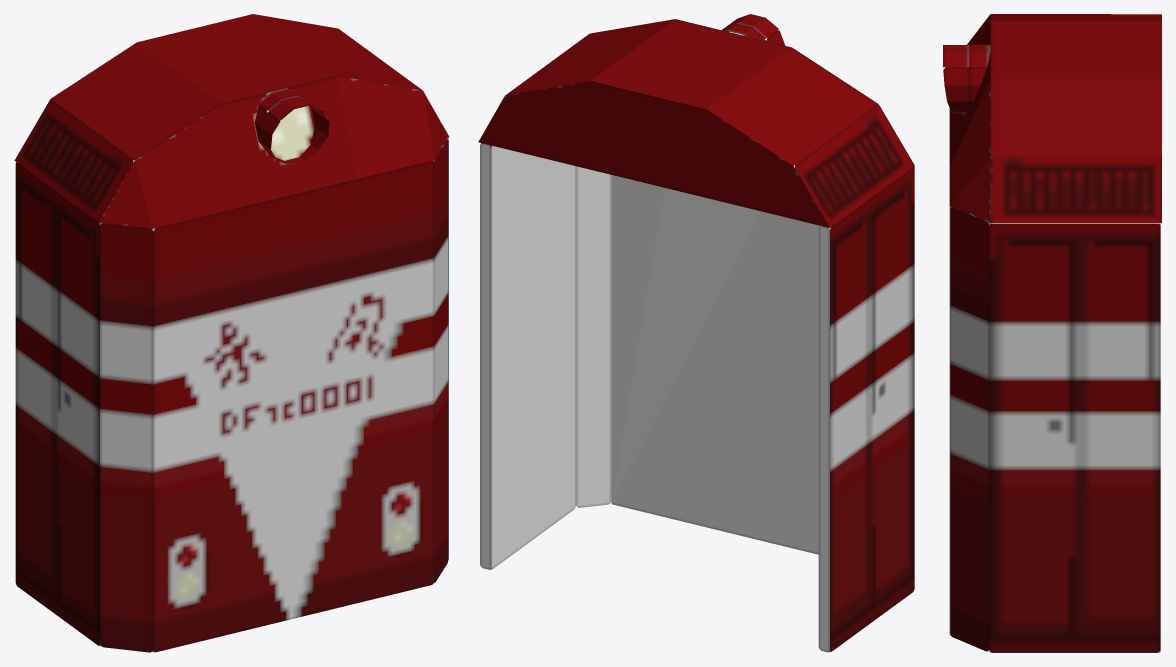
Rendered from df7g_enclosure_end.obj.
3 renders of one model, left to right at view 1: azimuth 30°, elevation 25°; view 2: azimuth 150°, elevation 25°; view 3: azimuth 270°, elevation 25°, orthographic.
Visible parts, largest first — view 1: df7g_enclosure_end; view 2: df7g_enclosure_end; view 3: df7g_enclosure_end.
Part boxes in pixels (x1,y1,x2,y2): df7g_enclosure_end: [14, 14, 449, 652]; df7g_enclosure_end: [478, 14, 914, 652]; df7g_enclosure_end: [943, 14, 1161, 652].
Size of the model in its own units: 1.95 by 2.72 by 1.04.
